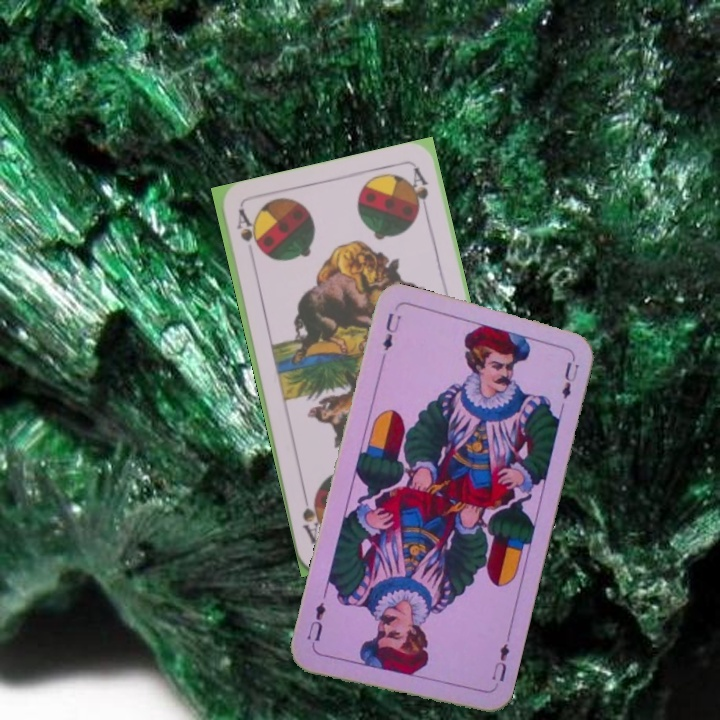EU: (487, 634, 513, 692), (378, 308, 404, 353)
SA: (232, 205, 258, 248)
